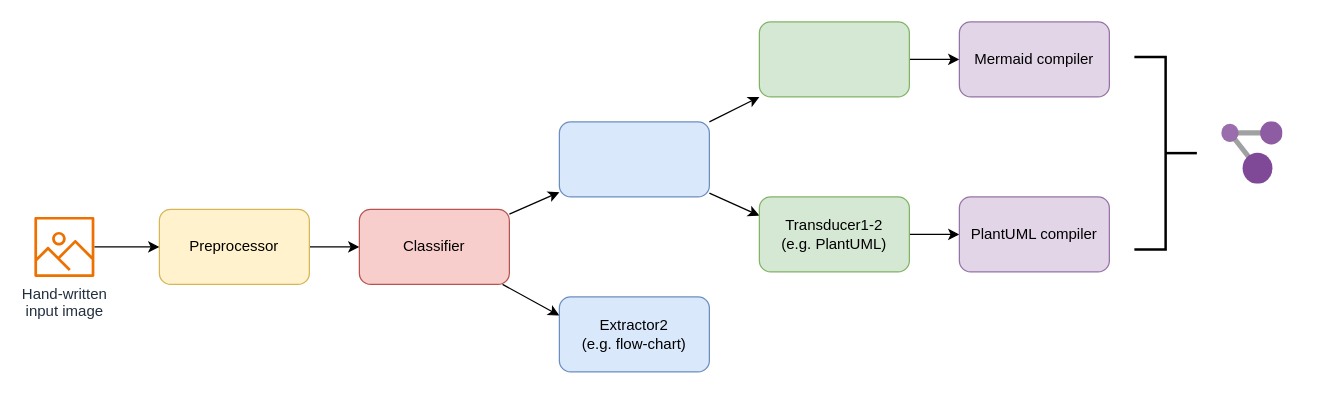
The diagram is 1324 pixels wide and 394 high, and some of its shapes have lost their labels. Here are the shapes that lost their labels. From the top down, the centre of each, then its label:
At (x=833, y=59): "Transducer1-1 (e.g. Mermaid)".
At (x=633, y=159): "Extractor1 (e.g. graph-diagram)".
At (x=1251, y=152): "Graph diagram".
